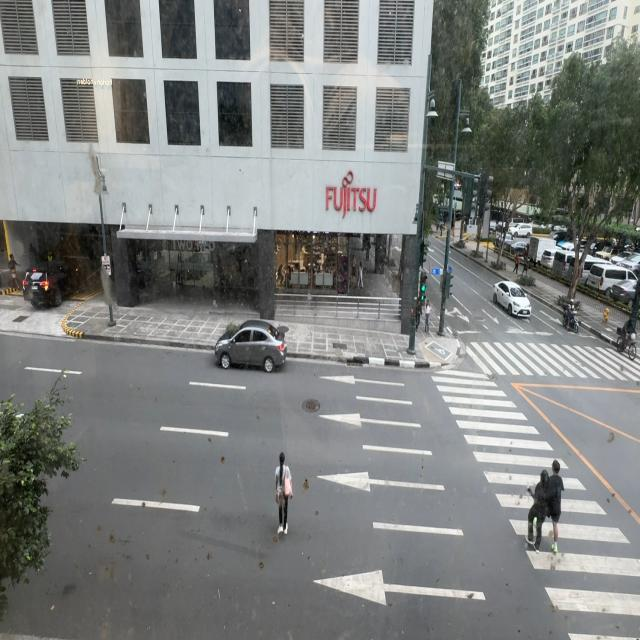crossing: (522, 453, 549, 564), (542, 453, 566, 572)
jaywalking: (274, 452, 292, 533)
waiting: (424, 293, 432, 344), (416, 299, 422, 330)
